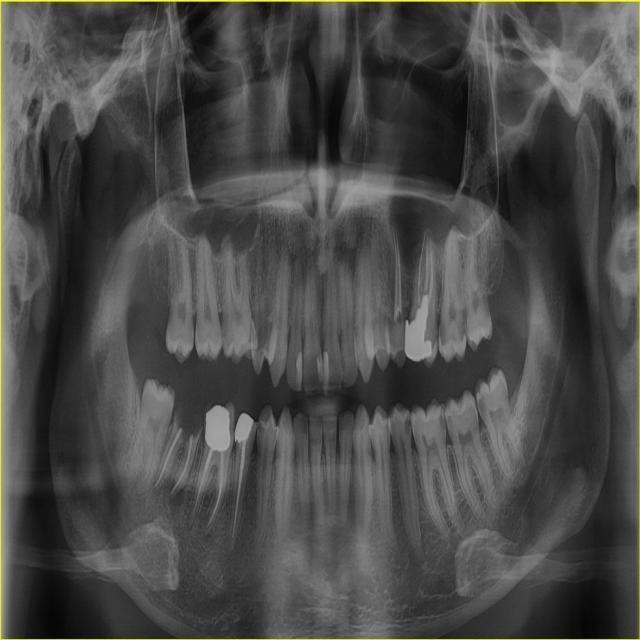Caries: (477, 393, 487, 421), (458, 311, 466, 340), (439, 410, 446, 434), (257, 421, 265, 441), (439, 320, 445, 346), (405, 412, 411, 435), (446, 413, 453, 429), (473, 400, 477, 414)
Filling: (405, 293, 431, 361), (204, 405, 230, 453), (234, 413, 254, 445), (390, 318, 405, 355), (295, 349, 302, 389), (323, 350, 329, 394), (317, 352, 323, 390)
Periapical lesion: (165, 478, 186, 512), (202, 512, 215, 539), (185, 509, 198, 534)
Root Canal Treatment: (192, 448, 213, 514), (233, 440, 246, 537), (208, 452, 224, 525), (418, 236, 424, 304), (429, 242, 435, 306), (398, 239, 402, 311), (424, 237, 428, 293)
